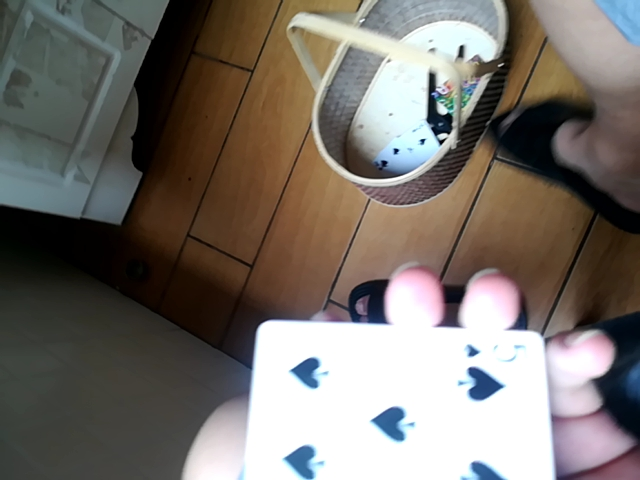ht 5: (239, 312, 561, 478)
